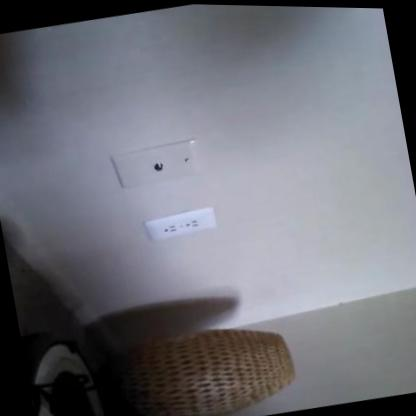OUTLET: (143, 204, 216, 243)
